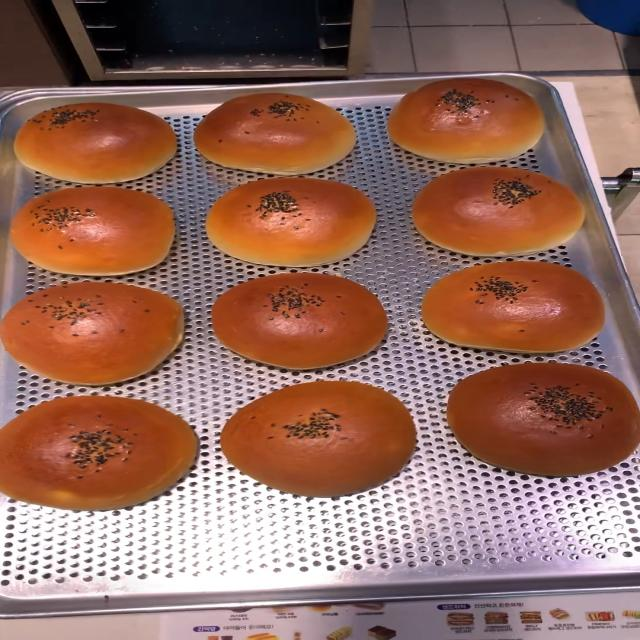bread: (219, 376, 419, 499), (446, 359, 640, 478), (0, 398, 194, 511), (1, 282, 192, 388), (420, 265, 609, 357), (214, 274, 390, 372), (208, 176, 380, 268), (10, 185, 180, 276), (413, 168, 584, 255), (11, 98, 170, 184), (386, 76, 546, 160), (195, 89, 352, 173)
